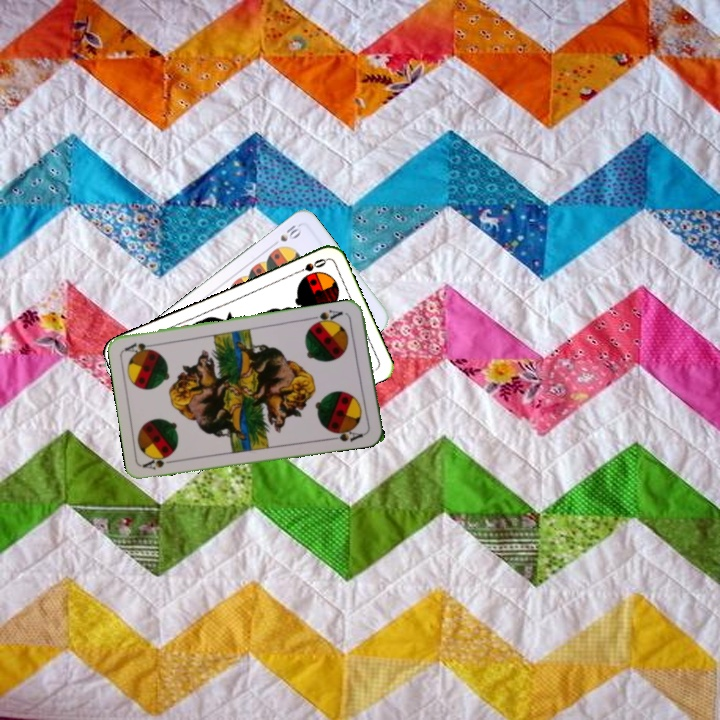S10: (267, 221, 304, 249)
SA: (140, 452, 181, 472), (308, 306, 345, 327)
SO: (290, 254, 329, 277)
